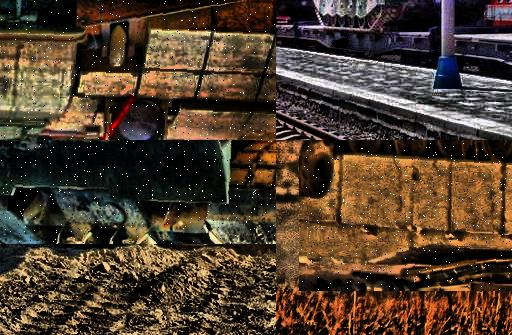tanks: (1, 1, 277, 141), (300, 141, 512, 291), (1, 141, 277, 245), (315, 1, 440, 33), (456, 1, 490, 28), (277, 1, 316, 24)
